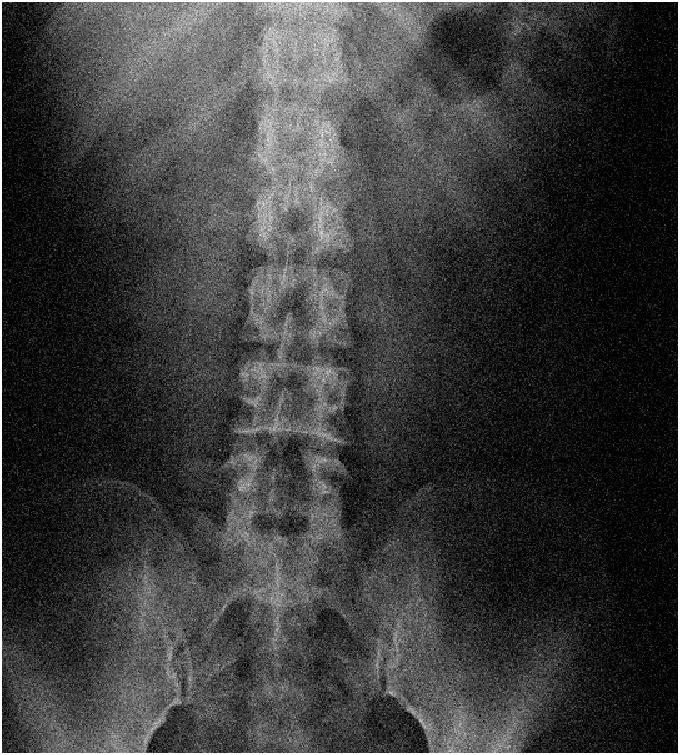lumbar scoliosis: (222, 164, 355, 569)
